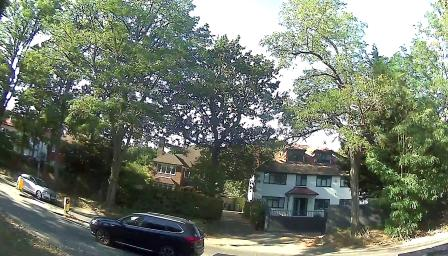Cars: (85, 187, 215, 256), (13, 166, 67, 207)
